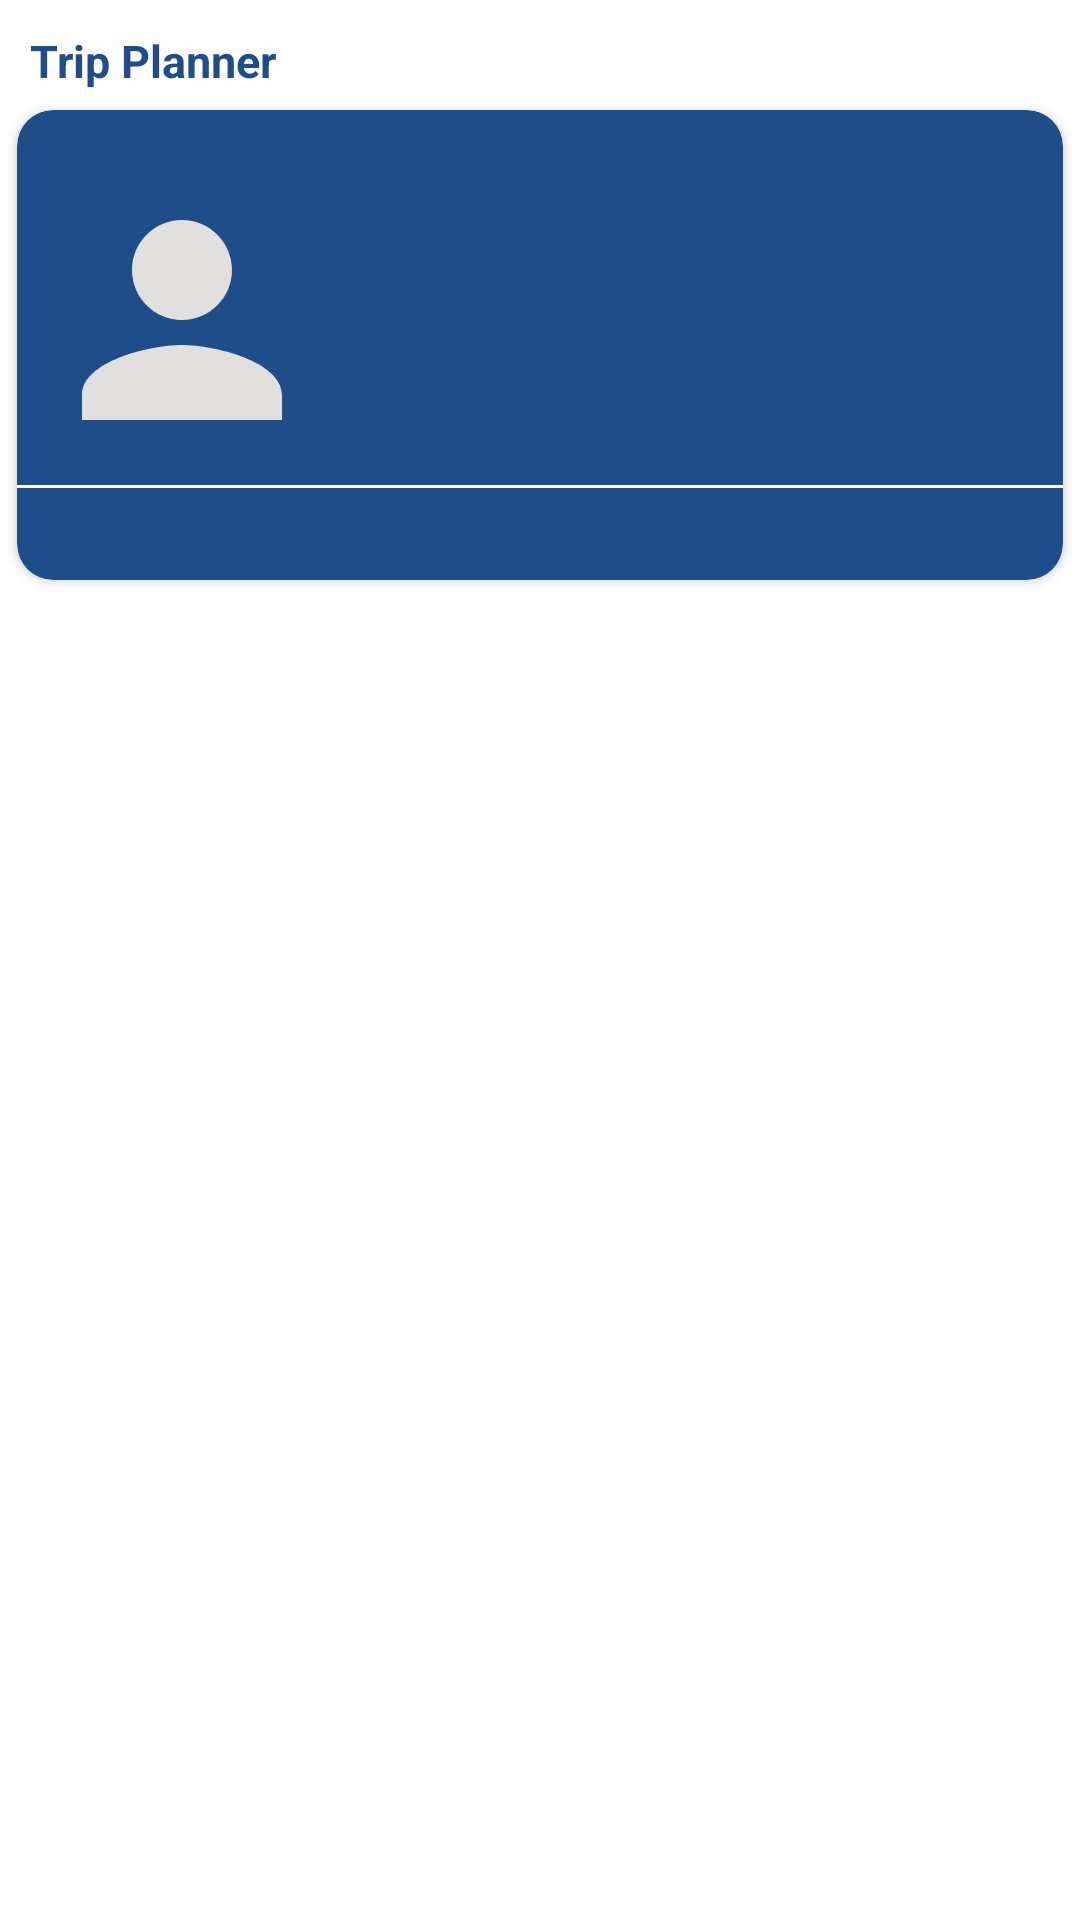

Point at icon controls on the screen. Image size 1080 x 1920, points as (x=x, y=y).
empty profile: (x=182, y=320)
